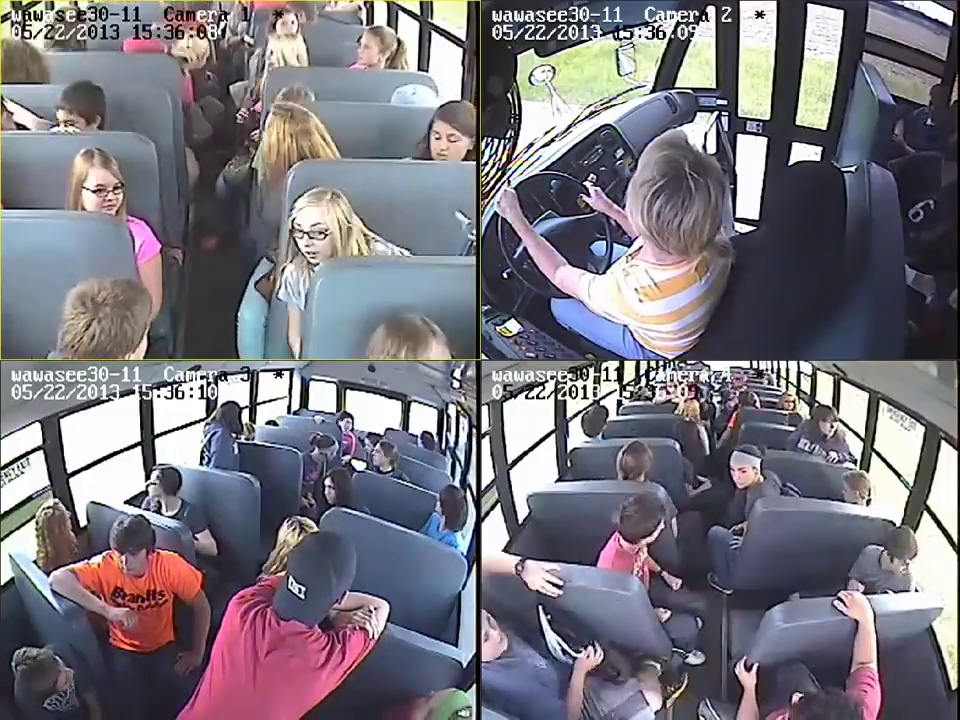face: (76, 169, 125, 212), (291, 212, 327, 270), (478, 613, 508, 659), (426, 122, 465, 157), (728, 459, 753, 490), (114, 547, 141, 575), (143, 474, 170, 501), (355, 32, 379, 62), (320, 477, 343, 504), (369, 447, 392, 466), (817, 412, 836, 434), (780, 394, 797, 407)
